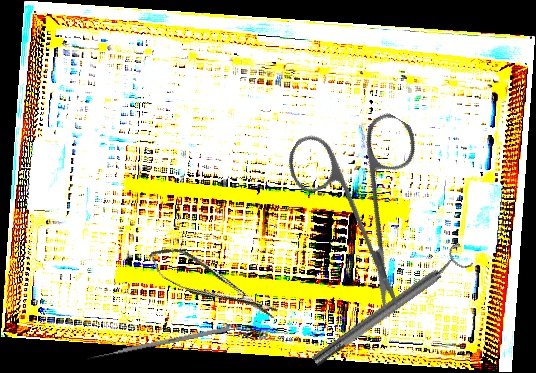Fixation Ring: (305, 241, 475, 373)
Iris Scissors: (246, 80, 481, 314)
Micro Scissor: (143, 237, 282, 333)
Pusher: (86, 325, 230, 362)
